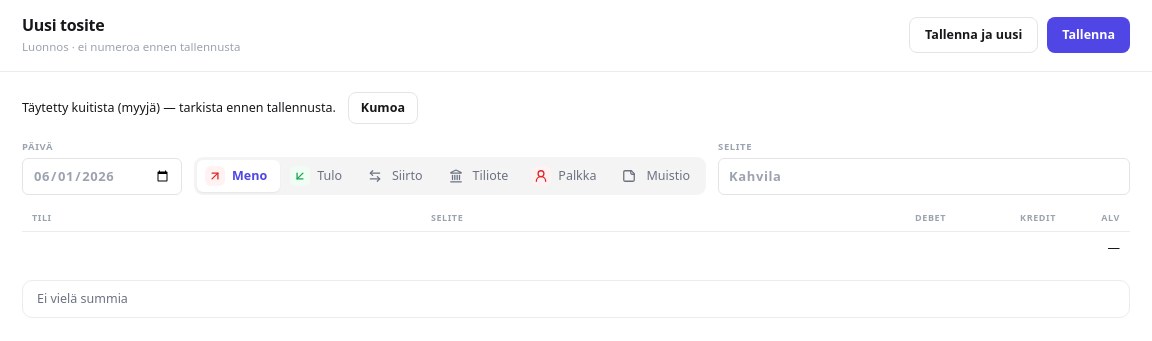
Test: TositeEditori — ulkoinen täyttö (kuitti) › Tallenna ja uusi ei täytä uudelleen ja ilmoitus katoaa
Expected: the field labelled "Selite" holds "Kahvila", top-left (718, 158), bottom-right (1130, 195)
Click the button "Tallenna ja uusi": click(974, 35) top-left (909, 17), bottom-right (1038, 53)
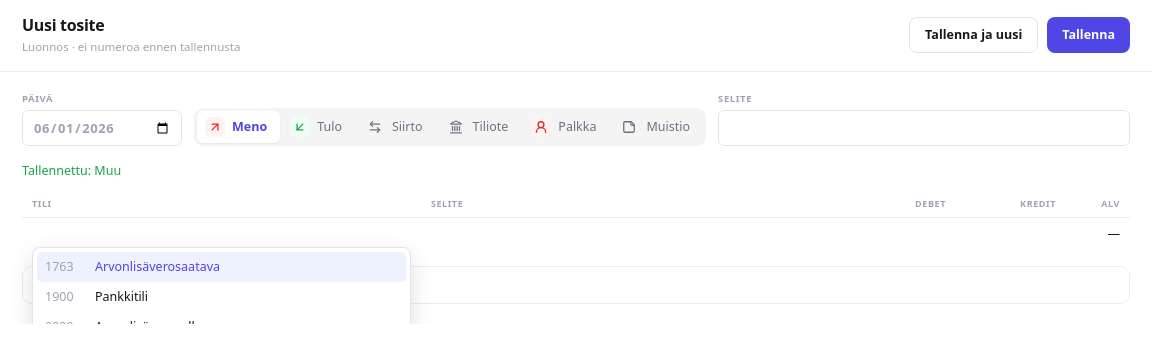
Expected: the field labelled "Selite" is empty, top-left (718, 110), bottom-right (1130, 146)
Expected: the text "Tallennettu: Muu" is shown, top-left (22, 162), bottom-right (121, 180)
Expected: the text "Täytetty kuitista" is gone
